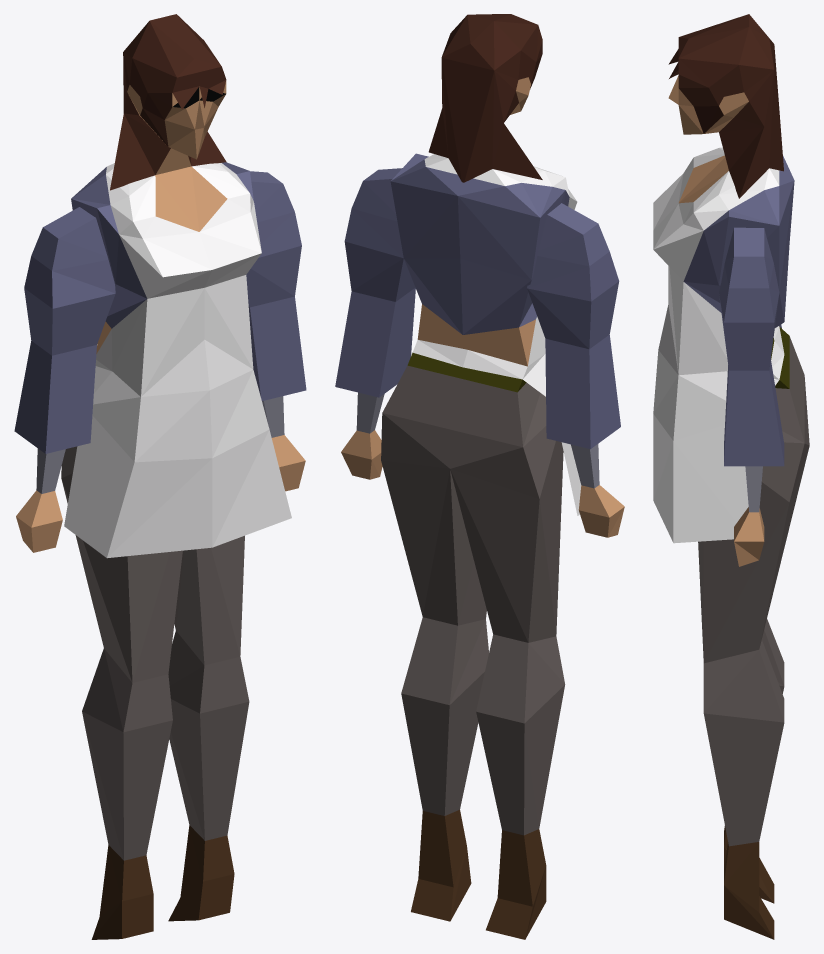
The model's file is burthorpe-games-room.gltf.
3 renders of one model, left to right at view 1: azimuth 30°, elevation 25°; view 2: azimuth 150°, elevation 25°; view 3: azimuth 270°, elevation 25°, orthographic. The views are drawn at different scales.
Size of the model in its own units: 61 by 195 by 31.
Materials: 1 (1 with a texture image).
